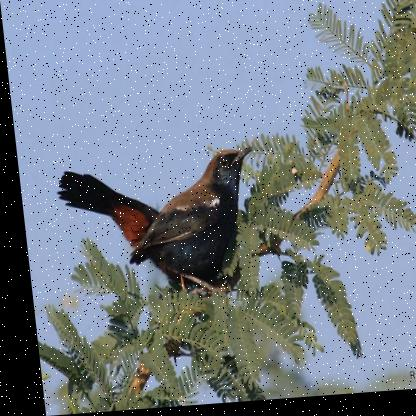Burung: (49, 151, 259, 302)
